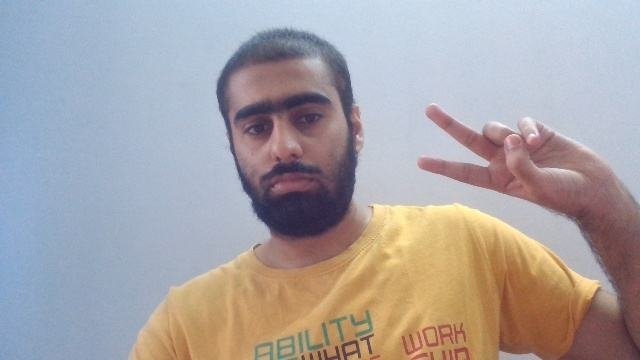scissors: (416, 102, 602, 219)
